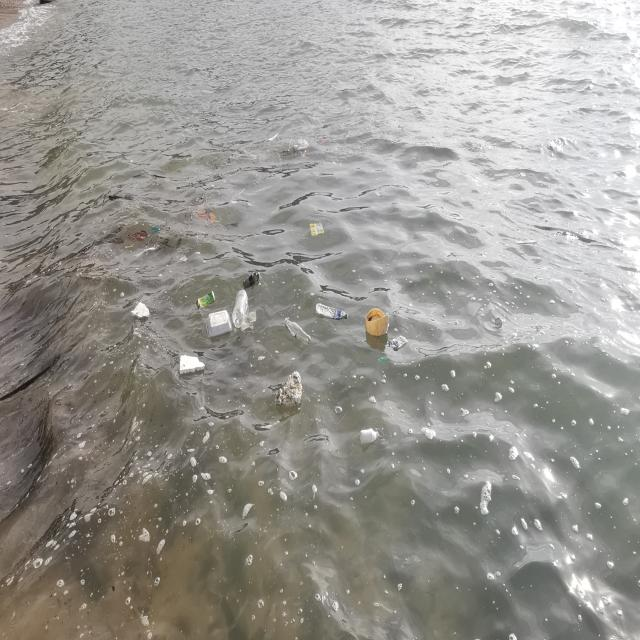can: (197, 290, 215, 311)
foam: (275, 371, 302, 406), (206, 310, 232, 340), (180, 355, 205, 374)
plastic: (284, 318, 311, 345), (232, 290, 248, 330), (315, 303, 348, 320), (243, 270, 260, 290), (360, 429, 379, 444)
plastic bottle: (365, 307, 389, 337), (130, 302, 150, 320), (388, 334, 408, 350)
unknow: (310, 222, 326, 237), (131, 230, 148, 242), (195, 204, 207, 220), (150, 224, 162, 234), (208, 212, 218, 222)
